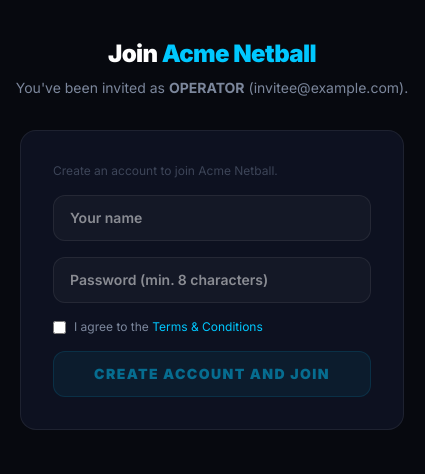
it: InviteAcceptPage › shows the server error when account creation fails
This screenshot has width=425, height=474.
Expected: the button "Create account and join" is shown, [53,351,371,397]
Type "New Person" into the field with placeholder "Your name" at (212, 218), box [53,195,371,241]
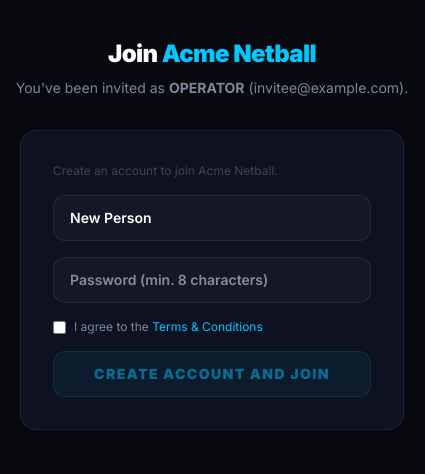
Type "longenough" into the password field with placeholder "Password (min. 8 characters)" at (212, 280), box [53,257,371,303]
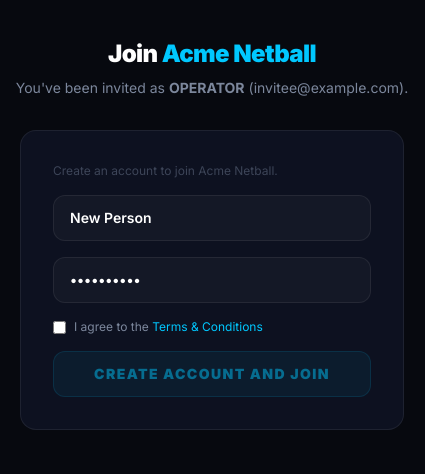
Click the checkbox labelled "I agree to the Terms & Conditions" at (60, 328), box [53,321,66,334]
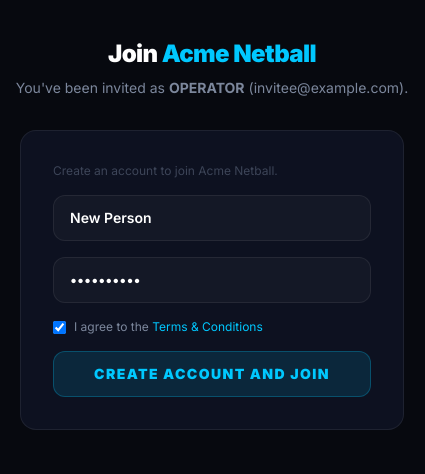
Click the button "Create account and join" at (212, 374), box [53,351,371,397]
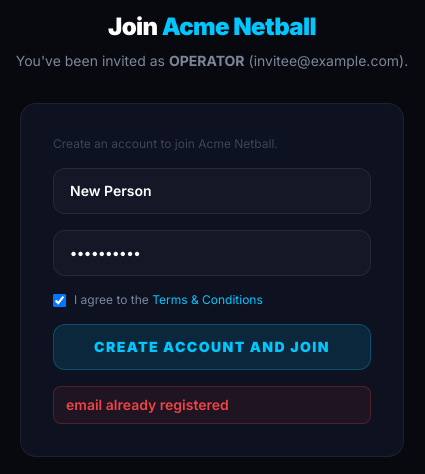
Expected: the text "email already registered" is shown, [53,386,371,424]
